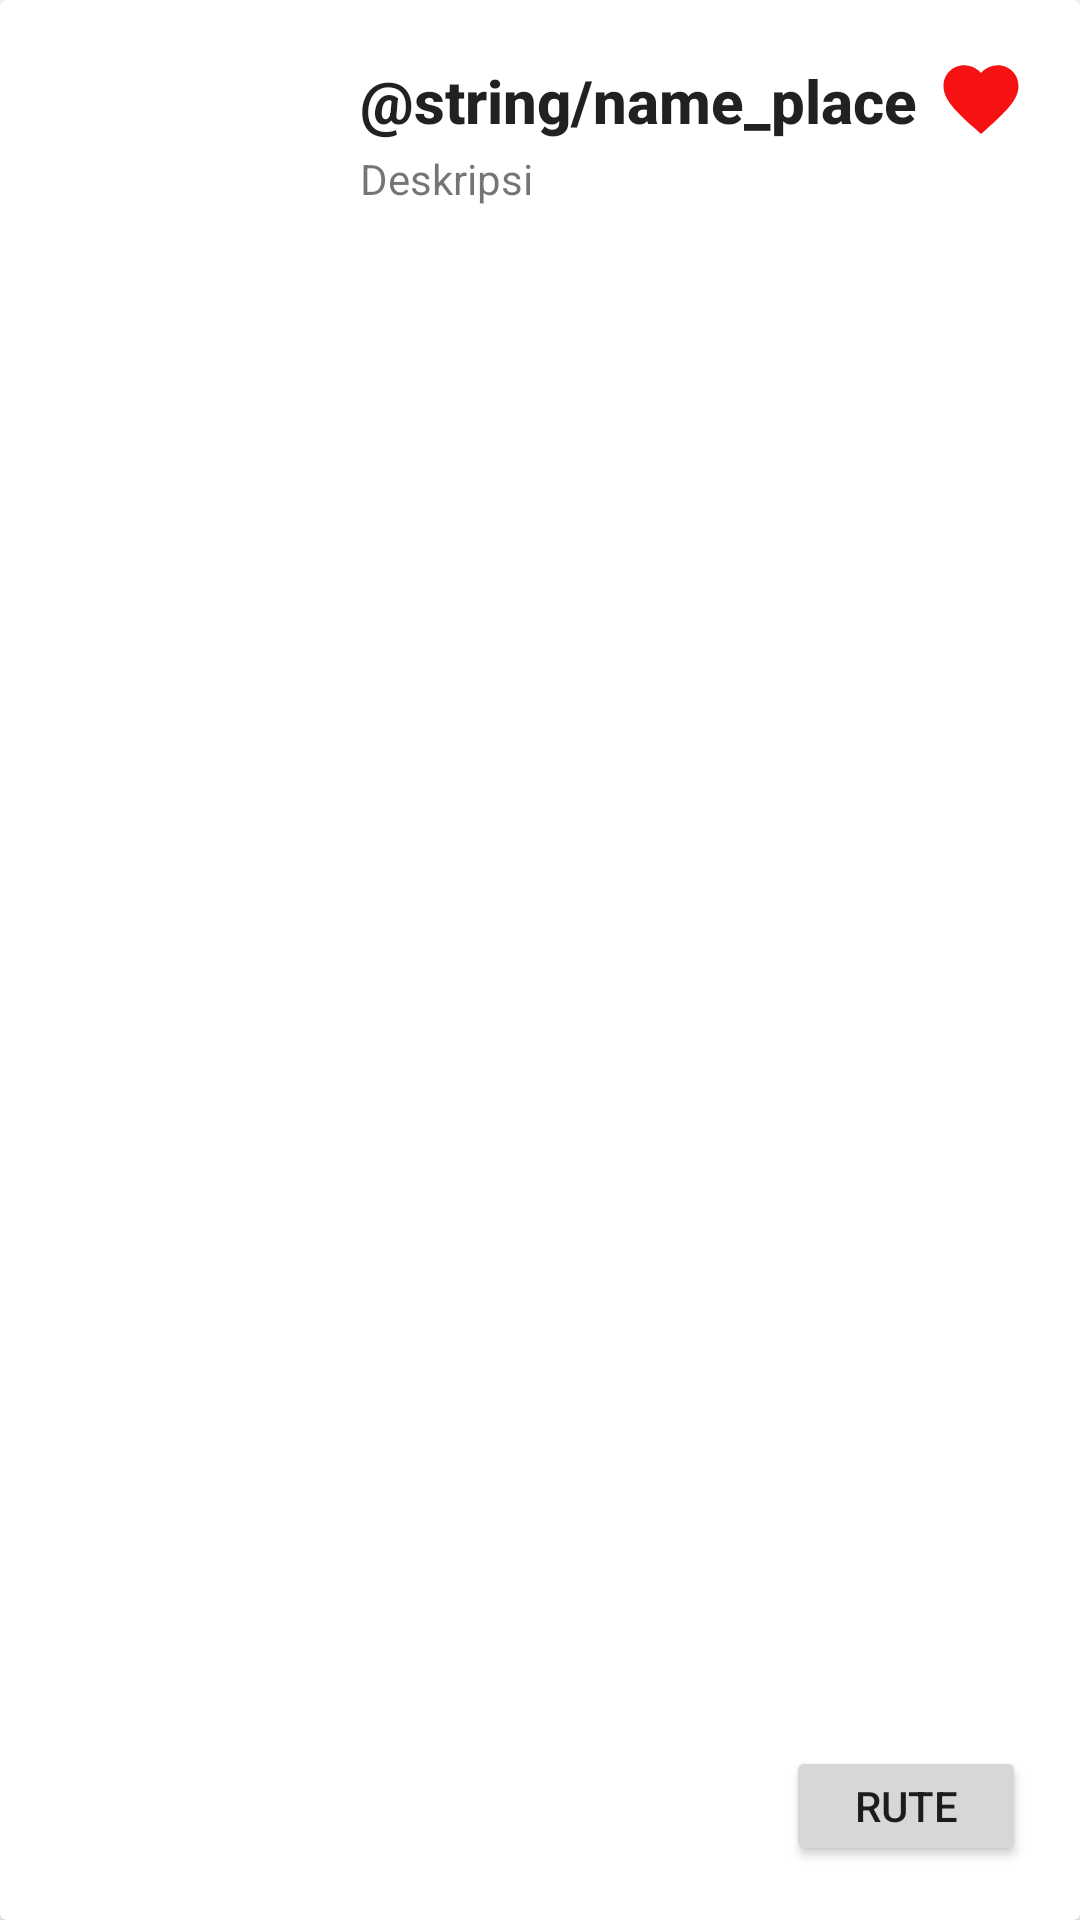

Icons on this 1080px×1920px Android screen, each with its box as (x1, y1, x2, y2):
favorite: (943, 65, 1019, 134)
